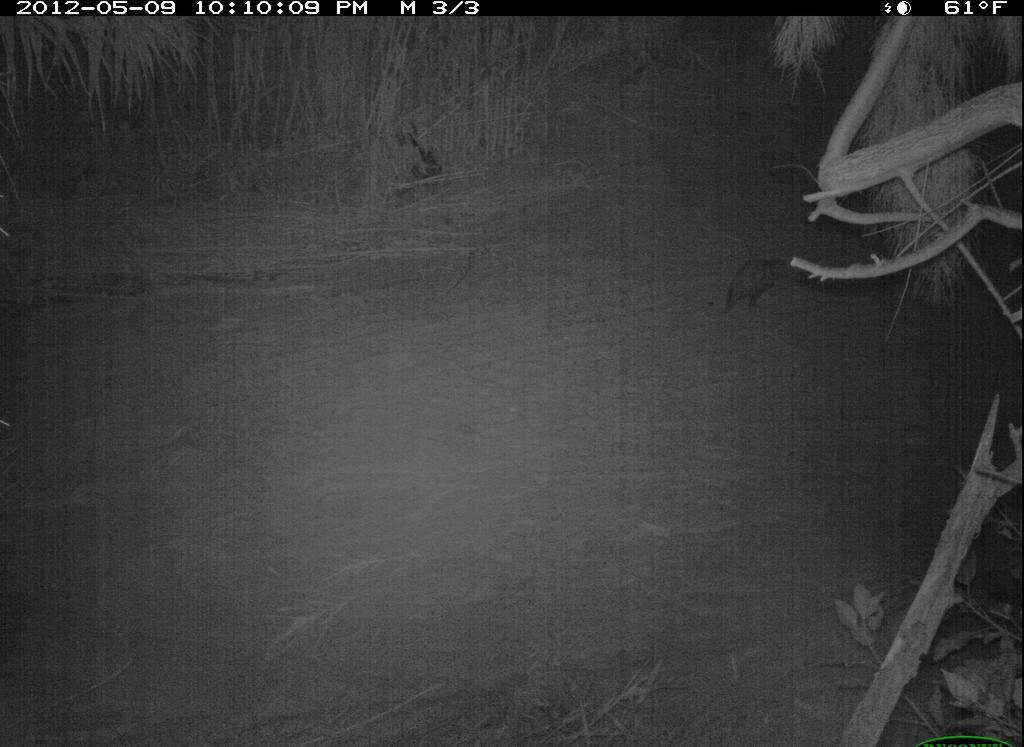opossum: (717, 242, 799, 328)
